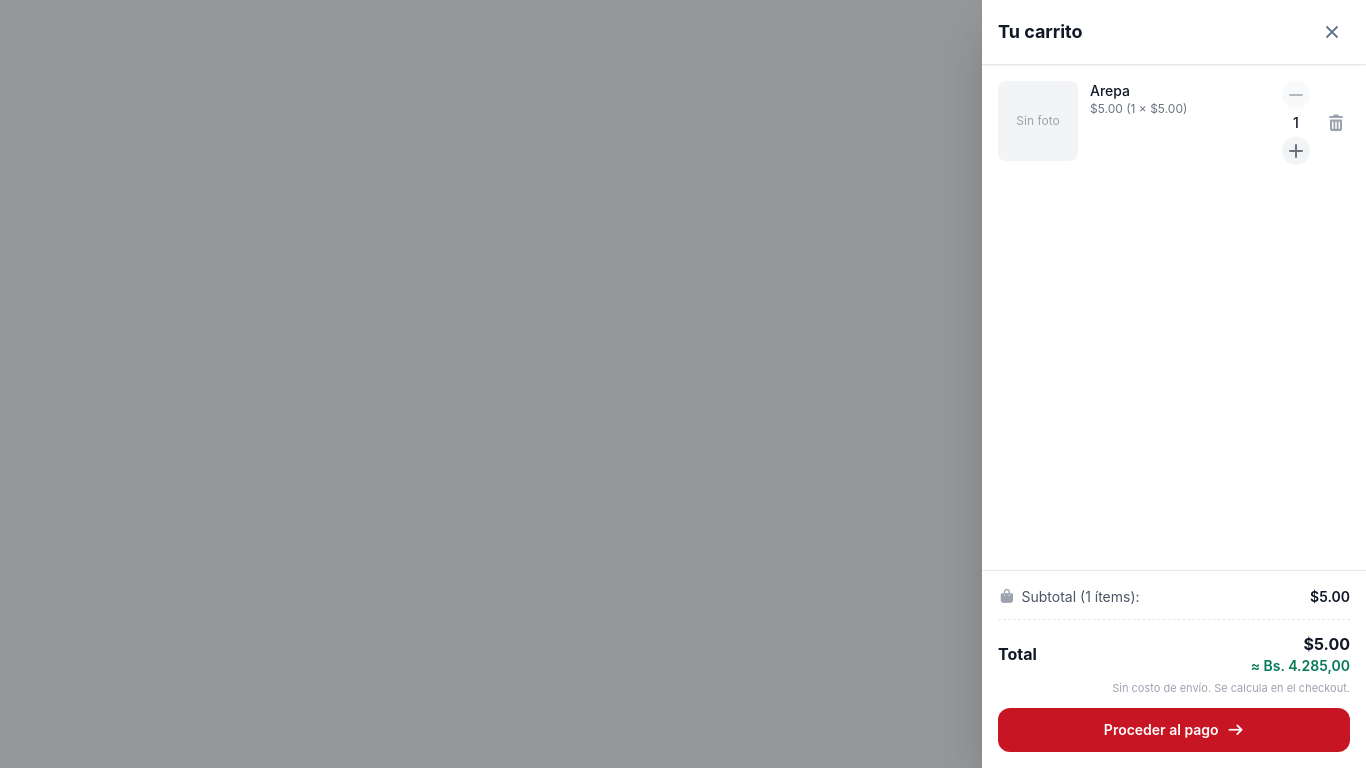
Test case: CartDrawer con perfil incompleto › bloquea el pedido y muestra el modal con los campos pendientes
Click the button "Proceder al pago". click: click(1174, 730)
box: [998,708,1350,752]
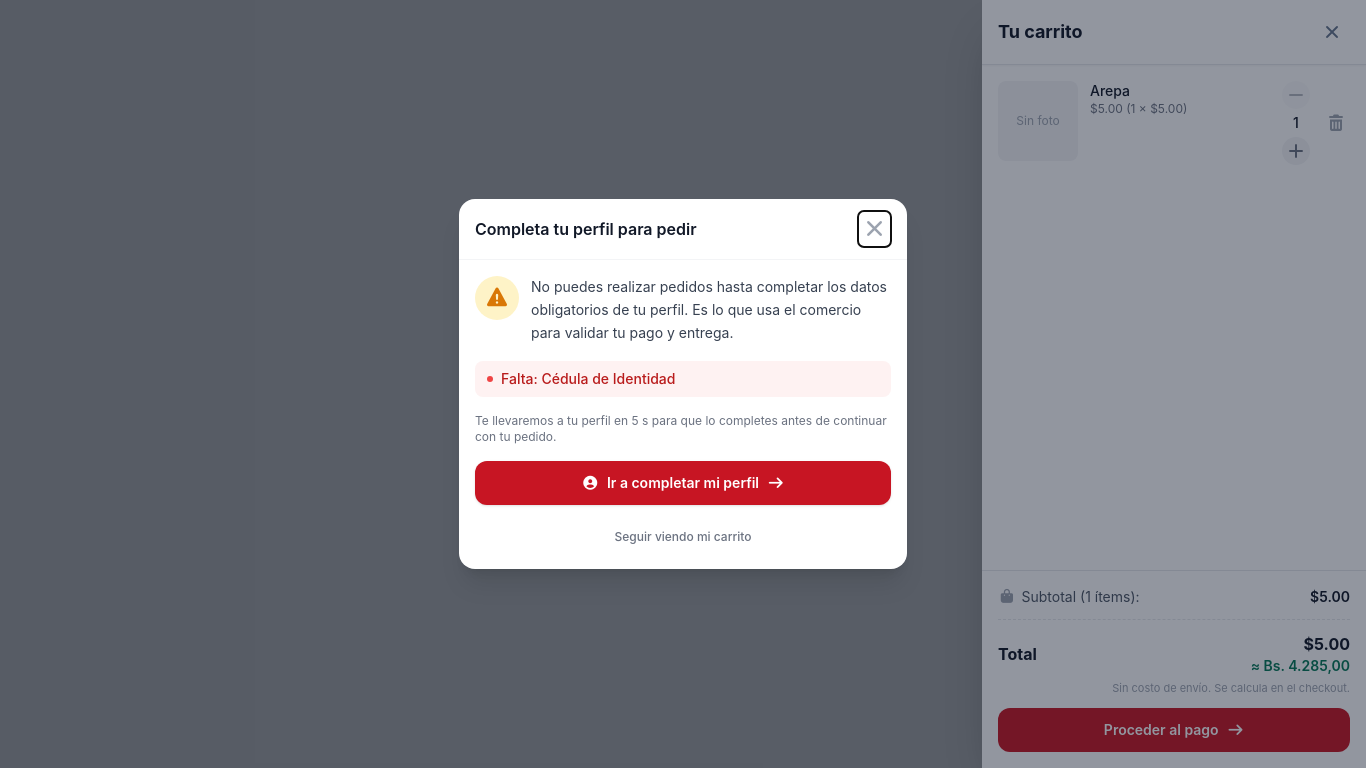
Result: the heading "Completa tu perfil para pedir" is shown at [475,217,696,241]
Result: the list item "Falta: Cédula de Identidad" is shown at [475,361,891,397]
